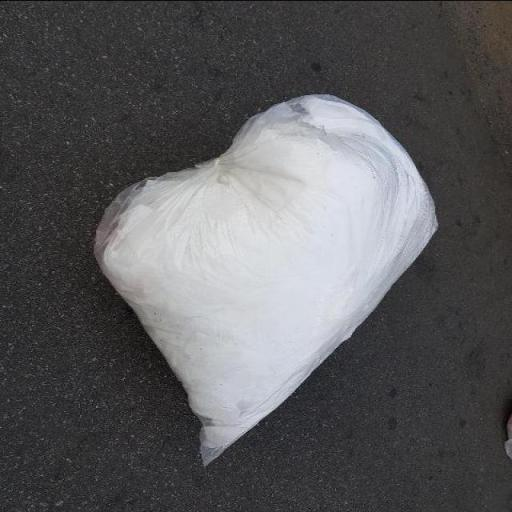plastic-bag: (86, 90, 444, 467)
